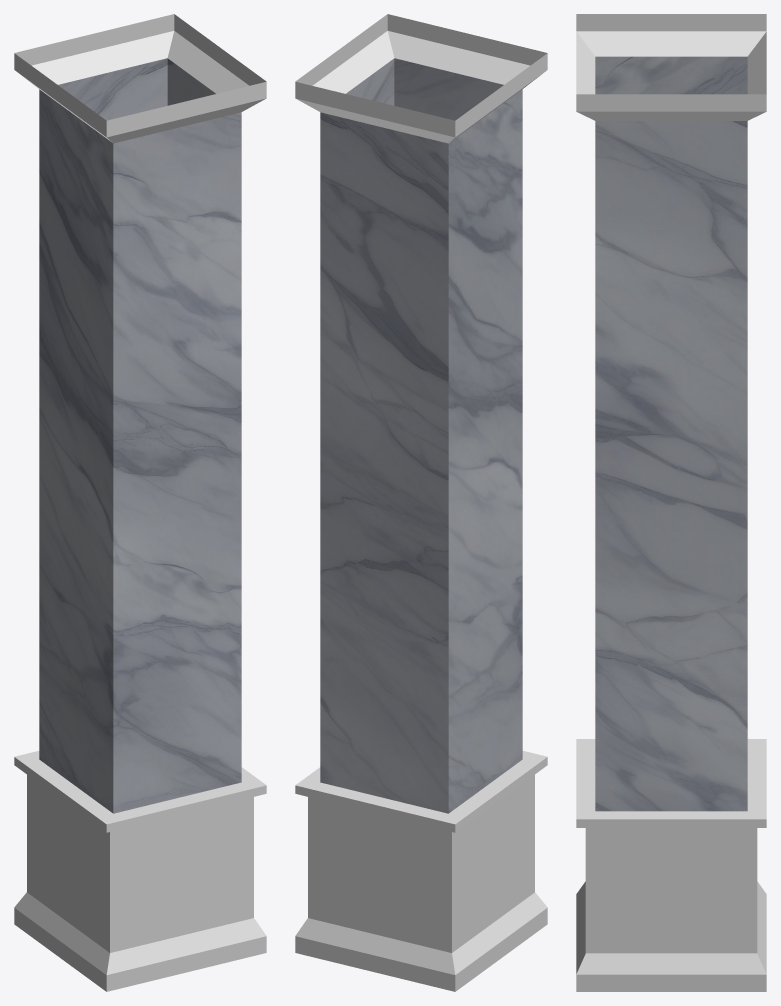
File: Wall_Library_1_Column.fbx
3 views of the same model, side by side, from view 1: azimuth 30°, elevation 25°; view 2: azimuth 150°, elevation 25°; view 3: azimuth 270°, elevation 25° (orthographic). The views are drawn at different scales.
Parts seen in each view (by area): view 1: Wall_Library_1_Column; view 2: Wall_Library_1_Column; view 3: Wall_Library_1_Column.
Part boxes in pixels (<box>): Wall_Library_1_Column: <box>14,14,266,991</box>; Wall_Library_1_Column: <box>295,14,547,991</box>; Wall_Library_1_Column: <box>576,14,766,991</box>.
Bounding box in the file's own units: 100 × 520 × 100.
Materials: 2 (1 with a texture image).
